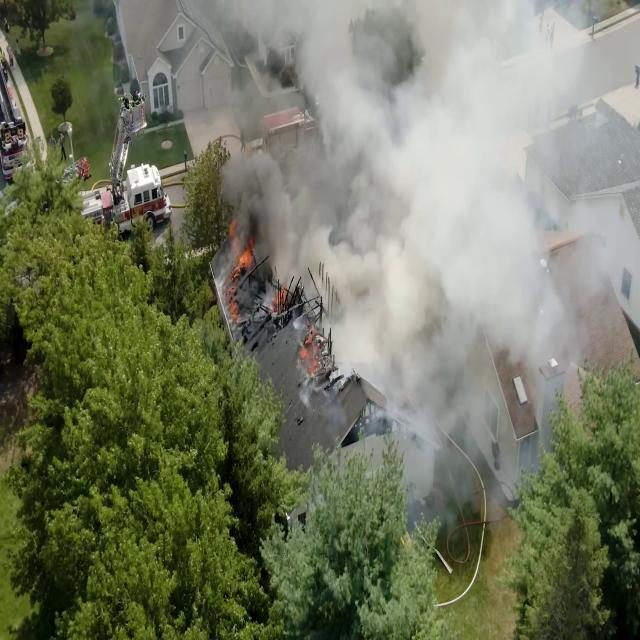Smoke: (325, 87, 428, 354), (404, 98, 519, 304), (267, 147, 388, 271)
